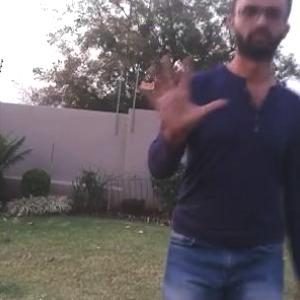follow_hand: (131, 49, 230, 136)
